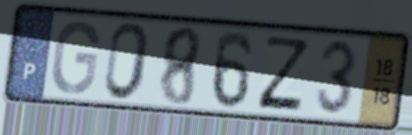0: (103, 20, 152, 103)
3: (314, 37, 360, 118)
6: (212, 29, 255, 112)
8: (156, 24, 204, 107)
G: (48, 18, 102, 97)
Z: (254, 34, 313, 115)
